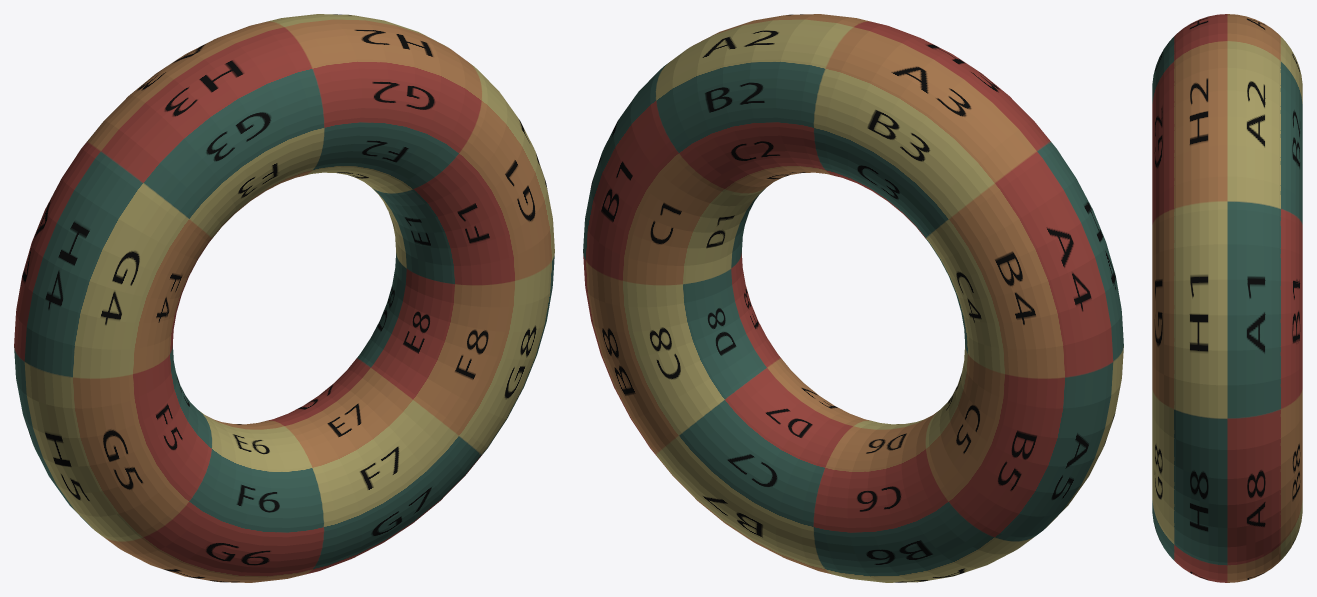
File: texture_torus_R0_r6.glb
3 views of the same model, side by side, from view 1: azimuth 30°, elevation 25°; view 2: azimuth 150°, elevation 25°; view 3: azimuth 270°, elevation 25° (orthographic). The views are drawn at different scales.
Parts seen in each view (by area): view 1: world; view 2: world; view 3: world.
Boxes of the visible parts, x1,y1,x2,y2 form: world: (14, 14, 554, 582); world: (583, 14, 1123, 582); world: (1152, 14, 1302, 582).
Size of the model in its own units: 13.6 by 13.57 by 3.59.
1 material, 1 textured.
